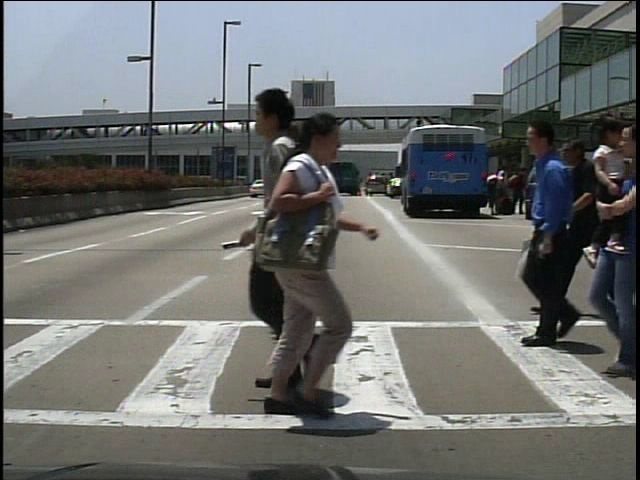person: (213, 84, 374, 408), (228, 114, 362, 421), (238, 118, 365, 348), (499, 114, 607, 348), (544, 130, 617, 322), (582, 168, 602, 218), (486, 161, 504, 214), (508, 166, 526, 216)
